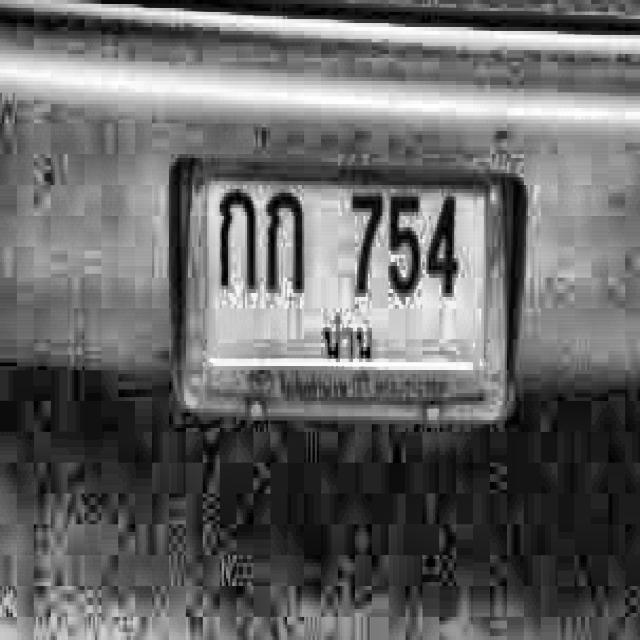license-plate: (181, 155, 505, 416)
